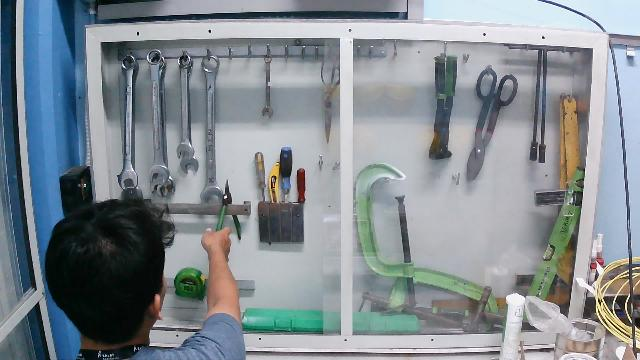tang_cucut_lancip_2: (215, 174, 244, 247)
